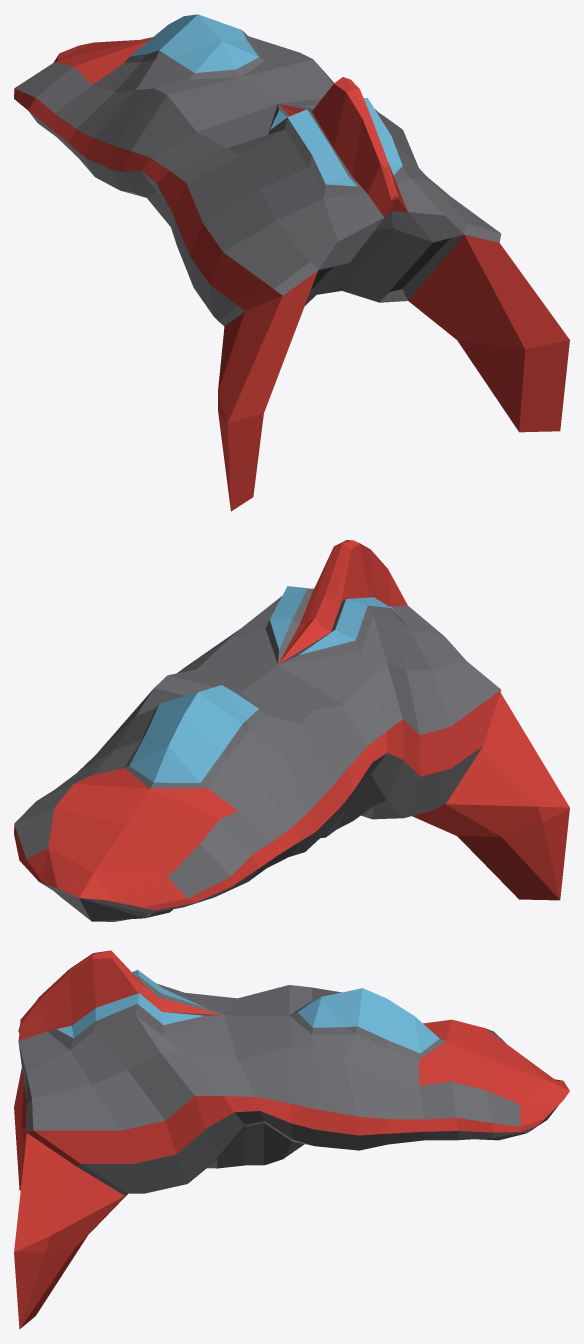
File: Ship.fbx
The picture shows the model from 3 angles, top to bottom: view 1: azimuth 30°, elevation 25°; view 2: azimuth 150°, elevation 25°; view 3: azimuth 270°, elevation 25°; orthographic projection. The views are drawn at different scales.
Visible parts, largest first — view 1: Cube; view 2: Cube; view 3: Cube.
Part boxes in pixels (x1,y1,x2,y2): Cube: (14, 14, 569, 511); Cube: (14, 540, 569, 921); Cube: (14, 950, 569, 1329).
Bounding box in the file's own units: 625 × 621 × 1011.
